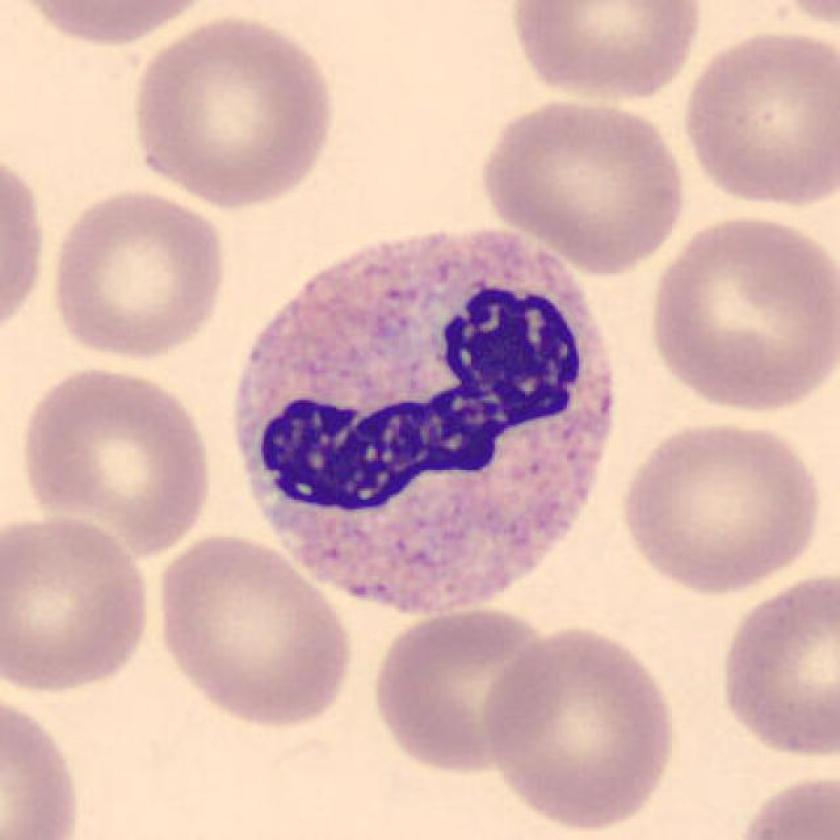neutrophil: (239, 234, 615, 617)
